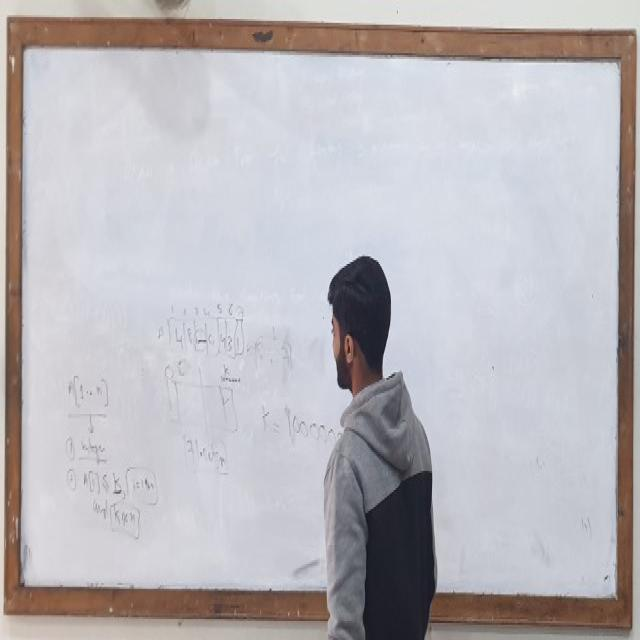Instructor: (312, 249, 435, 640)
White-board: (12, 29, 629, 620)
